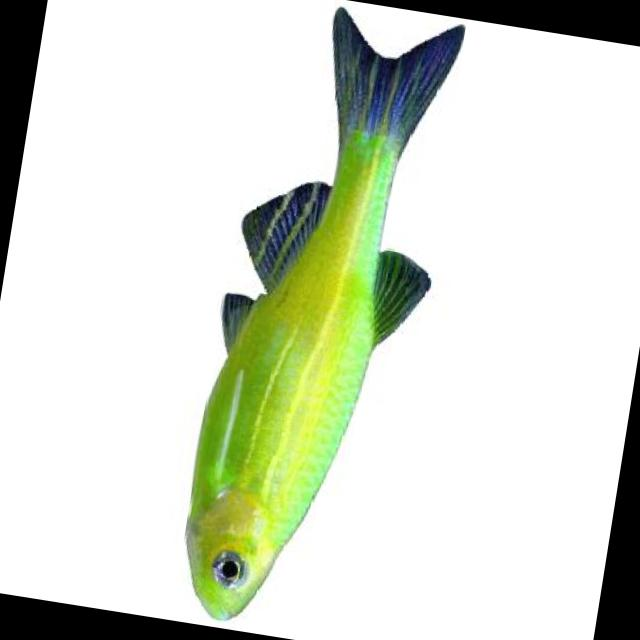ZebraFish: (164, 0, 476, 640)
